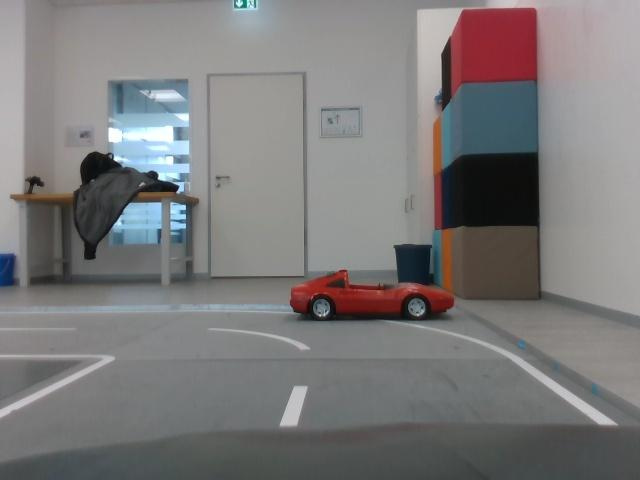car: (280, 265, 460, 325)
